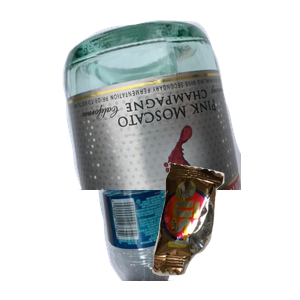cardboard: (77, 79, 251, 227)
glass: (60, 17, 300, 197)
plastic: (94, 120, 267, 300)
trash: (150, 160, 300, 300)
